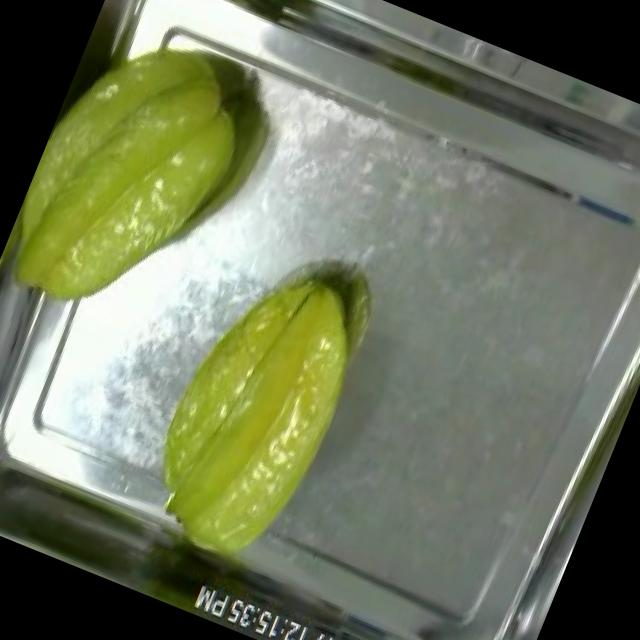fruit: (112, 228, 399, 592), (0, 0, 284, 355)
